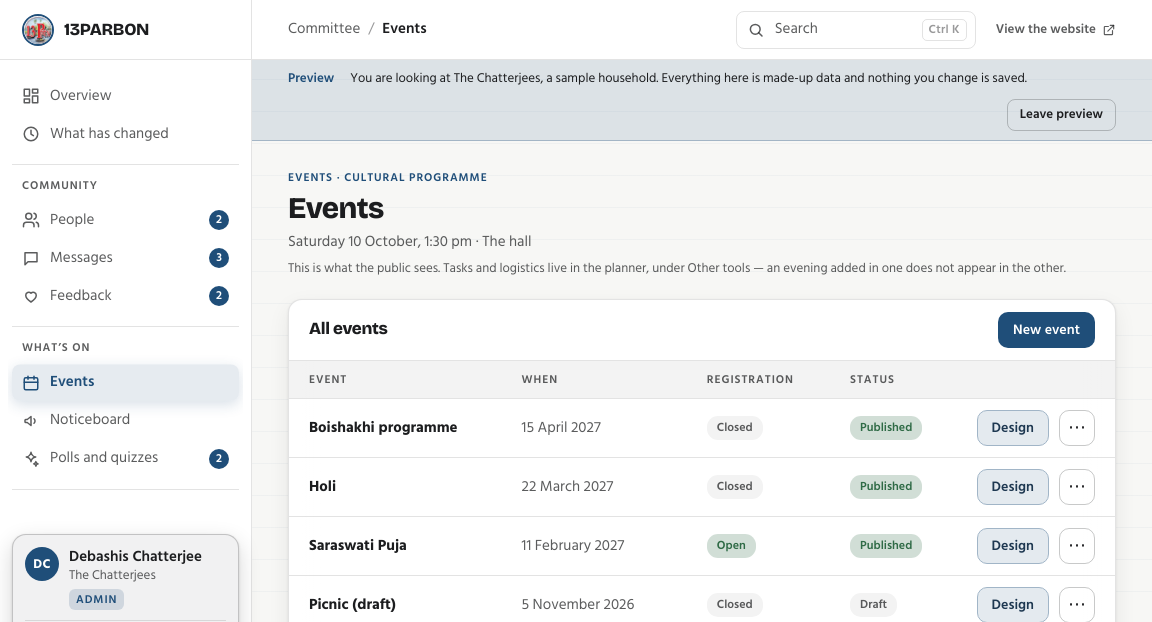
Test: adding an evening › will not add one with nothing in it
Click the button "New event".
click(1046, 330)  # box x1=998 y1=312 x2=1095 y2=348
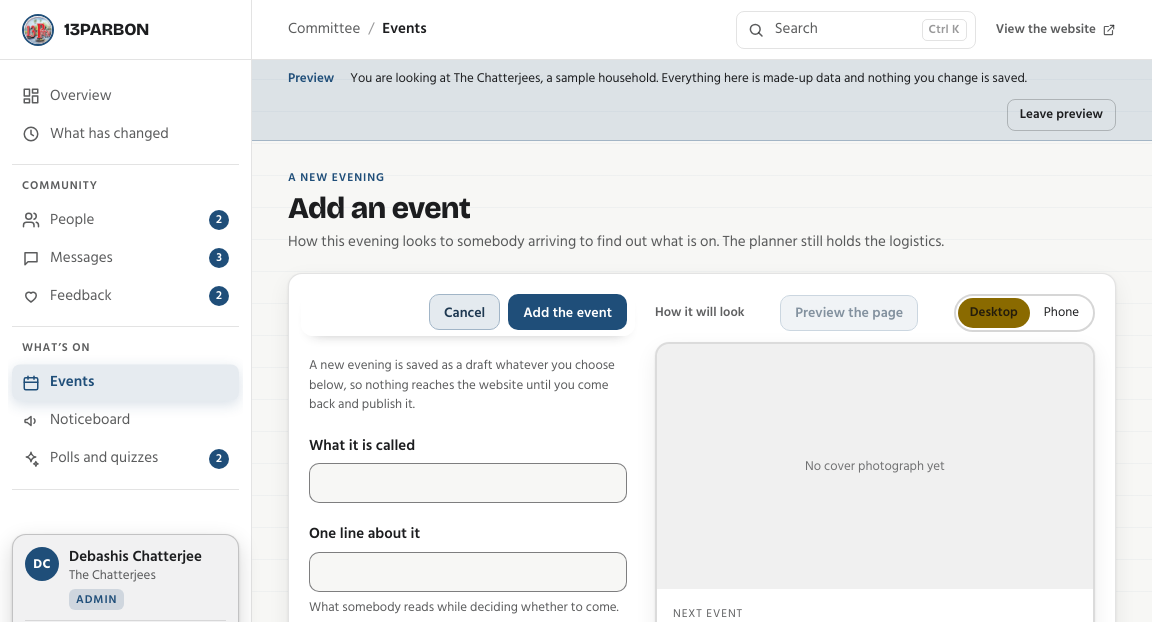
Click the button "Add the event".
click(568, 312)  # box x1=508 y1=294 x2=627 y2=330
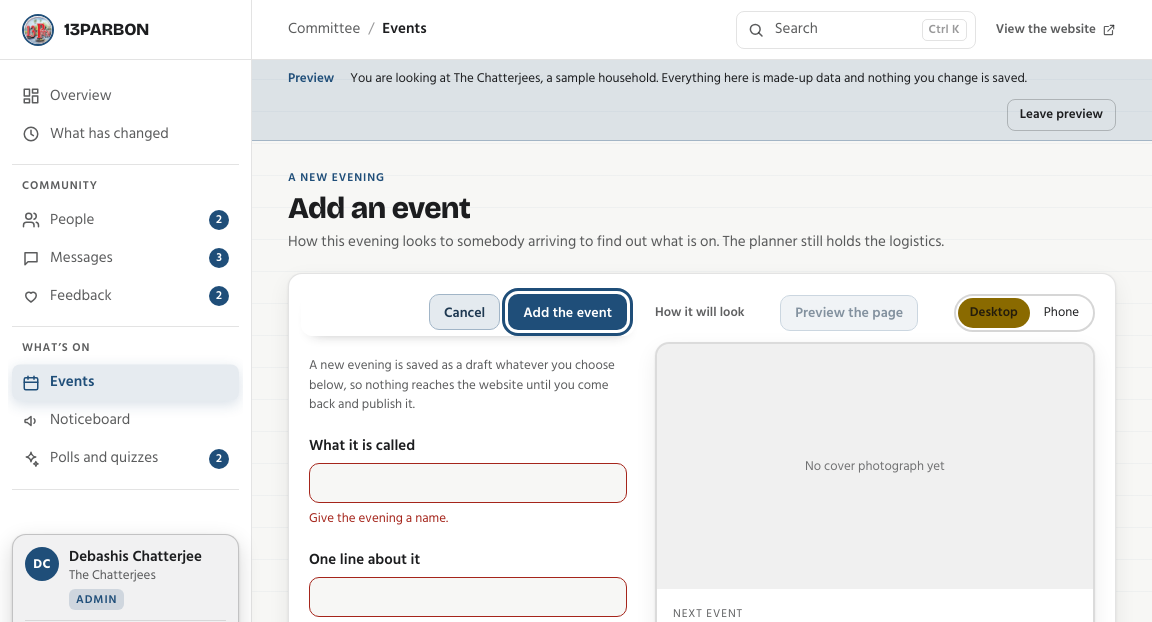
Now the text "Give the evening a name." is shown, box x1=309 y1=507 x2=448 y2=529
